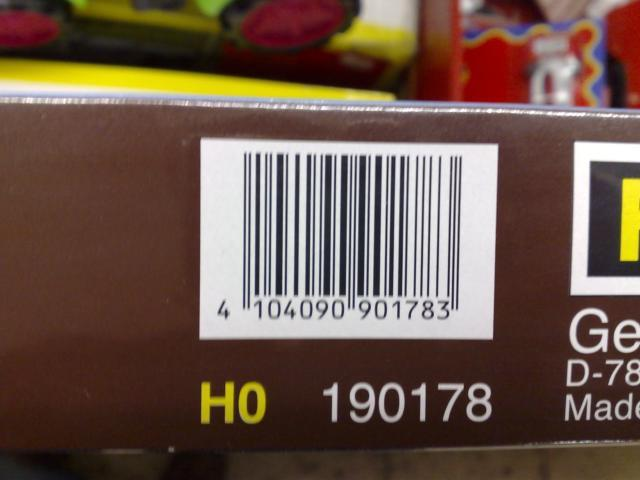Barcode: (209, 150, 472, 330)
